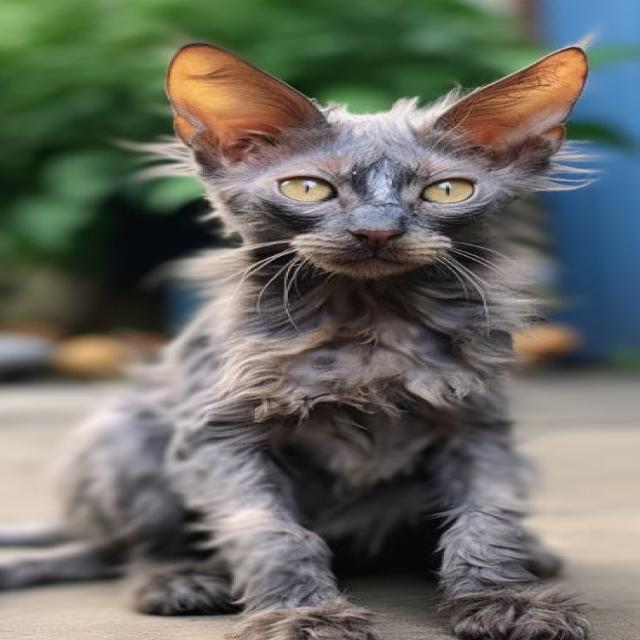Lykoi: (0, 32, 607, 640)
